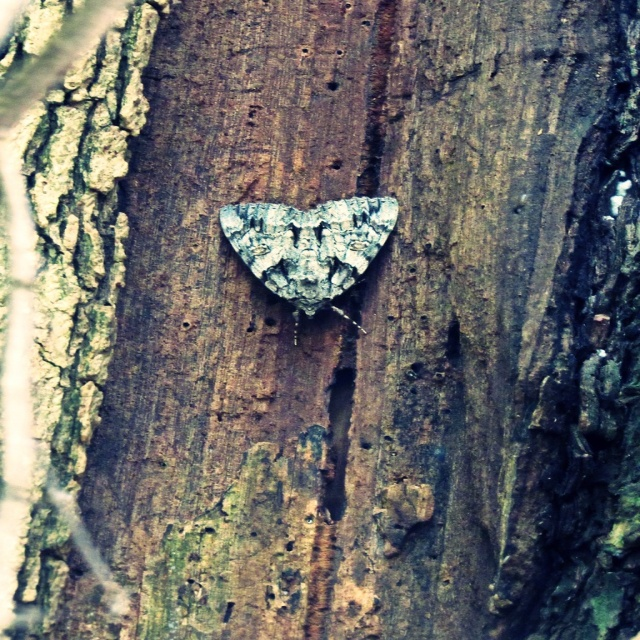Butterfly: (213, 183, 401, 310)
